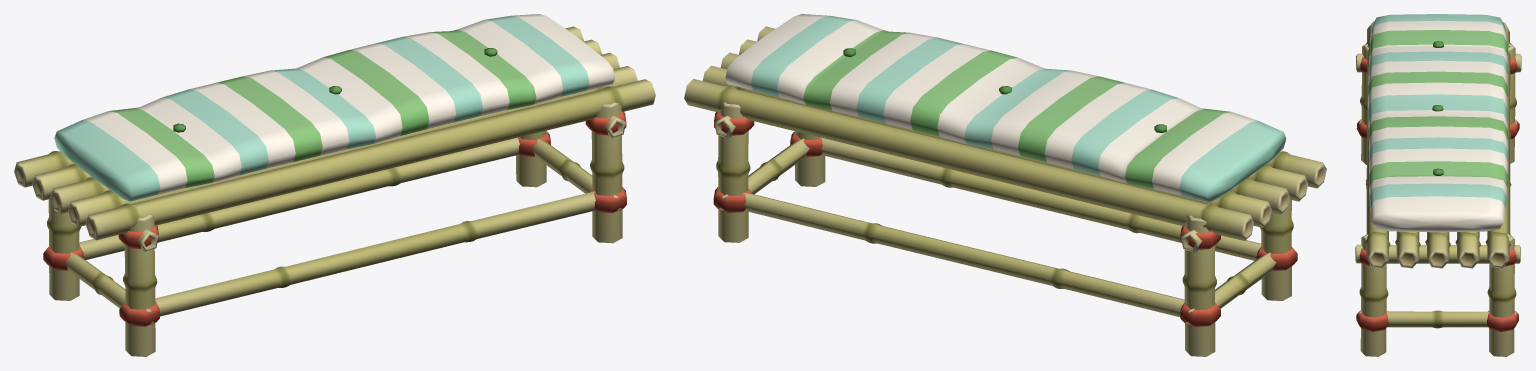
Rendered from furn-bambooBench.glb.
3 renders of one model, left to right at view 1: azimuth 30°, elevation 25°; view 2: azimuth 150°, elevation 25°; view 3: azimuth 270°, elevation 25°, orthographic. The views are drawn at different scales.
Visible parts, largest first — view 1: body, cloth; view 2: body, cloth; view 3: cloth, body.
Part boxes in pixels (box(x1,y1,x2,y2)): body: box(14, 26, 655, 356); cloth: box(54, 14, 615, 201); body: box(684, 26, 1326, 356); cloth: box(725, 14, 1286, 201); cloth: box(1368, 14, 1508, 232); body: box(1355, 21, 1521, 356).
Size of the model in its own units: 1.44 by 0.448 by 0.4419.
